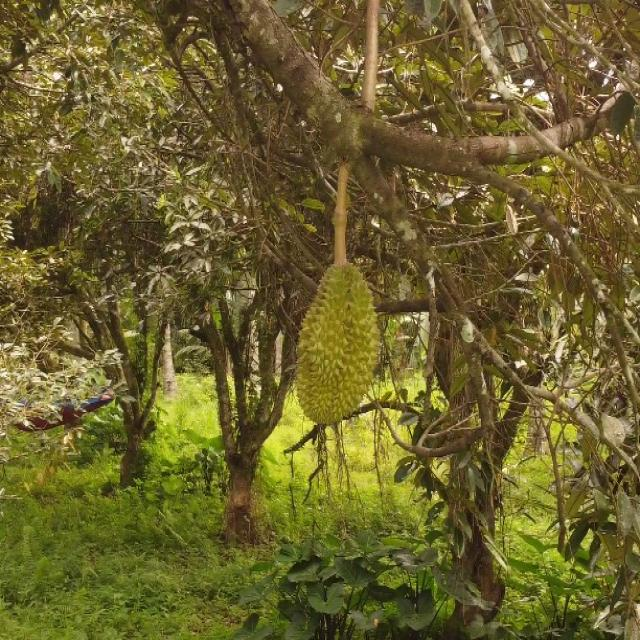immature: (291, 259, 381, 426)
